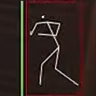hacks_3: (20, 1, 83, 96)
